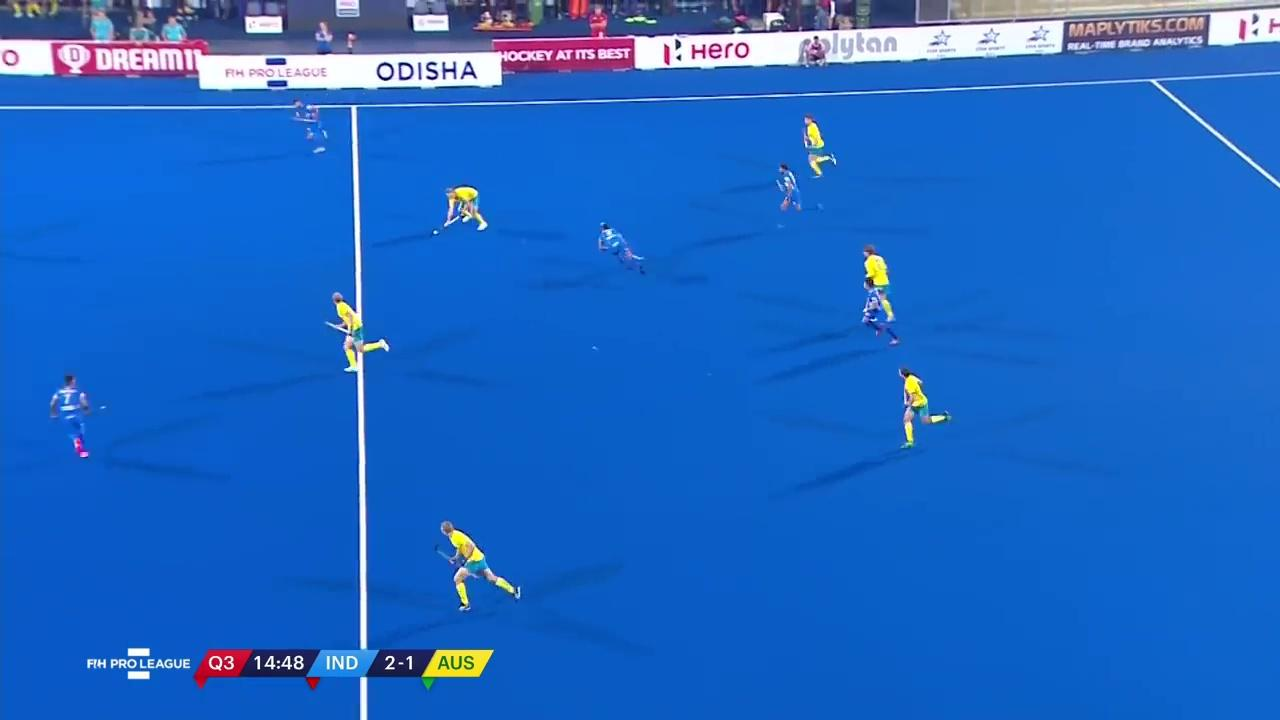ball: (428, 226, 441, 238)
